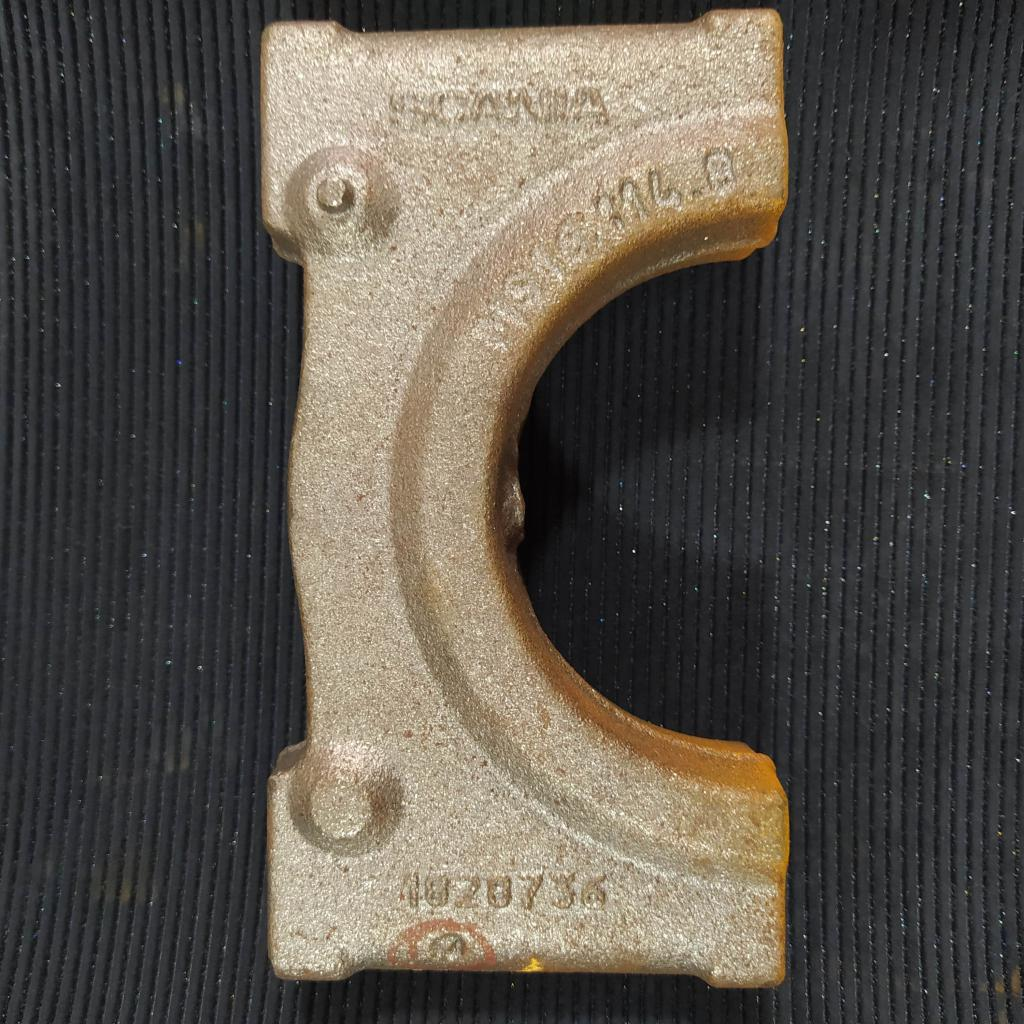buraco: (428, 933, 467, 962)
